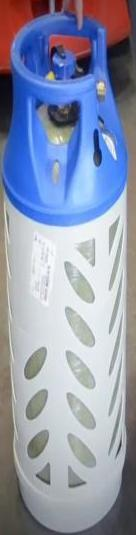cylinder: (1, 0, 136, 535)
